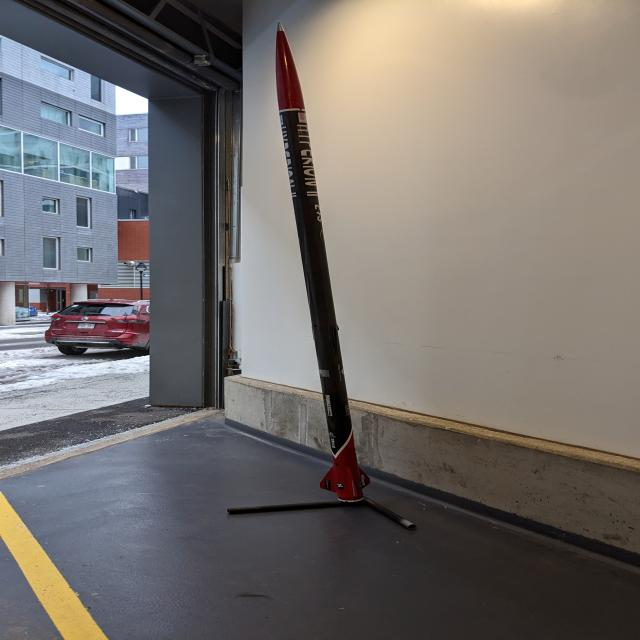Rocket: (275, 21, 371, 502)
